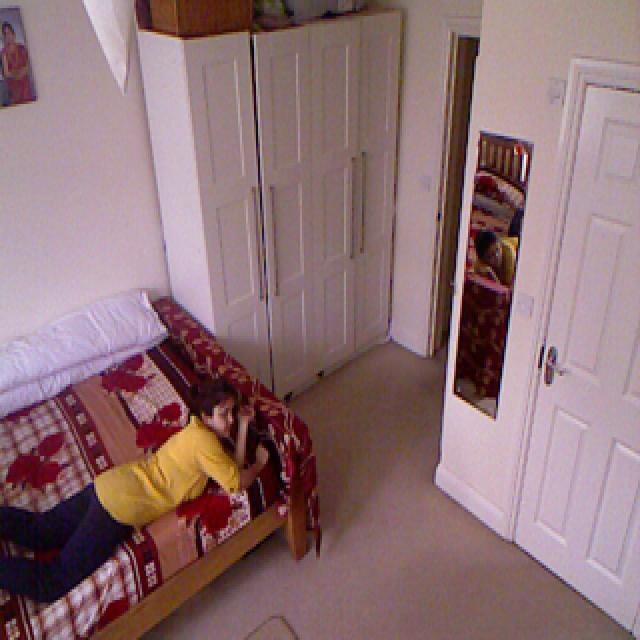lying: (0, 382, 270, 601)
